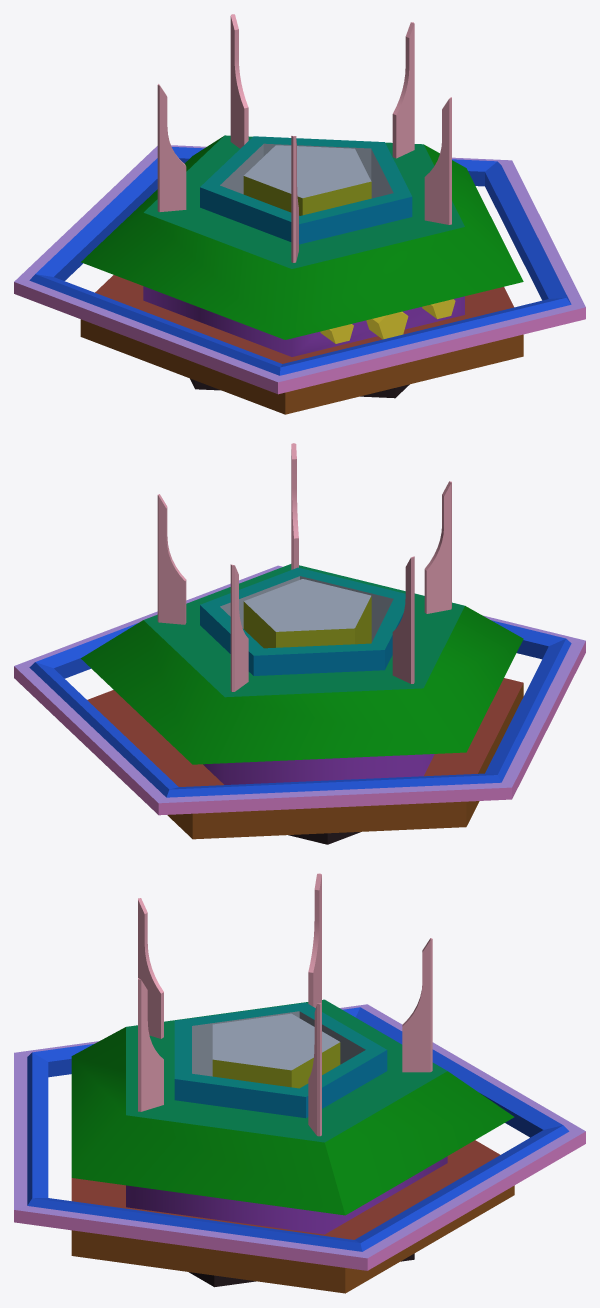
File: CrownIter3Colored.fbx
The picture shows the model from 3 angles, top to bottom: view 1: azimuth 30°, elevation 25°; view 2: azimuth 150°, elevation 25°; view 3: azimuth 270°, elevation 25°; orthographic projection. The views are drawn at different scales.
Visible parts, largest first — view 1: Model, Group2, Group4, Group5, Group1, Group3; view 2: Model, Group5, Group3, Group2, Group1, Group4; view 3: Model, Group1, Group4, Group3, Group5, Group2.
Part boxes in pixels (box(x1,y1,x2,y2)): Model: box(14, 135, 585, 414); Group2: box(157, 84, 186, 211); Group4: box(424, 97, 451, 224); Group5: box(392, 22, 414, 158); Group1: box(230, 14, 248, 148); Group3: box(291, 135, 298, 262); Model: box(14, 564, 585, 844); Group5: box(157, 494, 186, 624); Group3: box(424, 481, 451, 613); Group2: box(392, 556, 414, 683); Group1: box(230, 564, 248, 691); Group4: box(291, 443, 298, 569); Model: box(14, 999, 585, 1293); Group1: box(402, 938, 432, 1072); Group4: box(138, 978, 163, 1111); Group3: box(138, 898, 163, 1038); Group5: box(308, 1003, 321, 1136); Group2: box(308, 873, 321, 1007).
Size of the model in its own units: 14.64 by 8.08 by 13.92.
